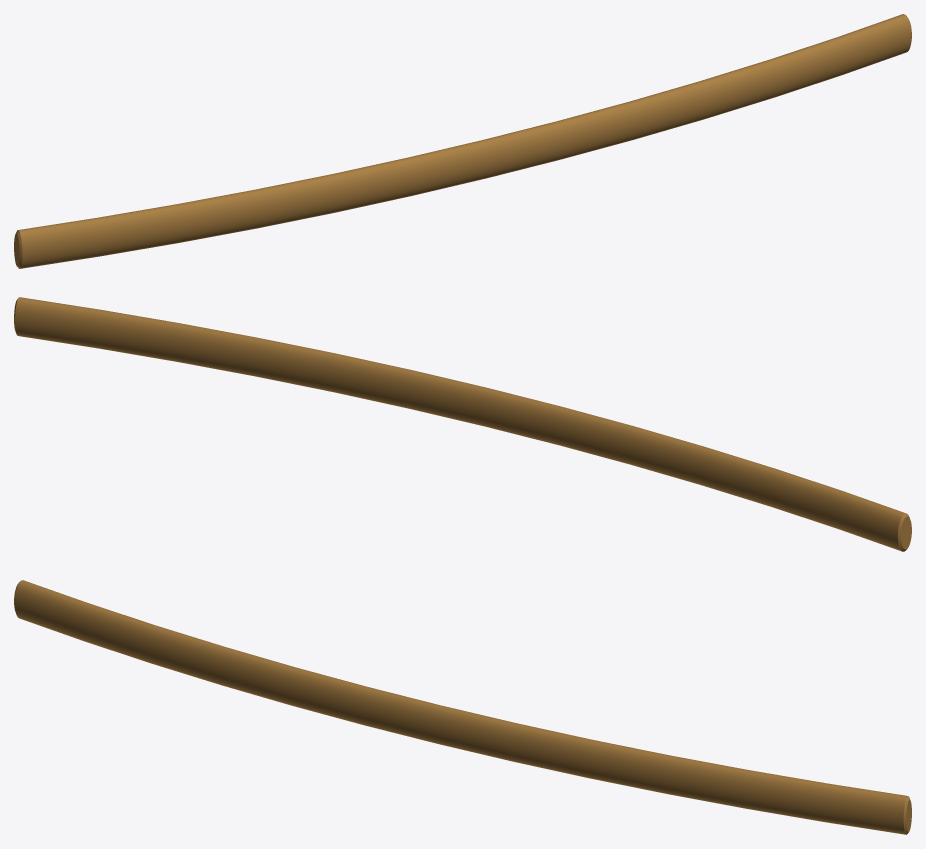
File: original-8.obj
The picture shows the model from 3 angles, top to bottom: view 1: azimuth 30°, elevation 25°; view 2: azimuth 150°, elevation 25°; view 3: azimuth 330°, elevation 25°; orthographic projection.
Parts seen in each view (by area): view 1: mesh18/mesh18-geometry#mesh18-geometry; view 2: mesh18/mesh18-geometry#mesh18-geometry; view 3: mesh18/mesh18-geometry#mesh18-geometry.
Part boxes in pixels (x1,y1,x2,y2): mesh18/mesh18-geometry#mesh18-geometry: [14, 14, 911, 268]; mesh18/mesh18-geometry#mesh18-geometry: [14, 297, 911, 551]; mesh18/mesh18-geometry#mesh18-geometry: [14, 580, 911, 834].
Bounding box in the file's own units: 1.22 × 0.0495 × 0.0817.
